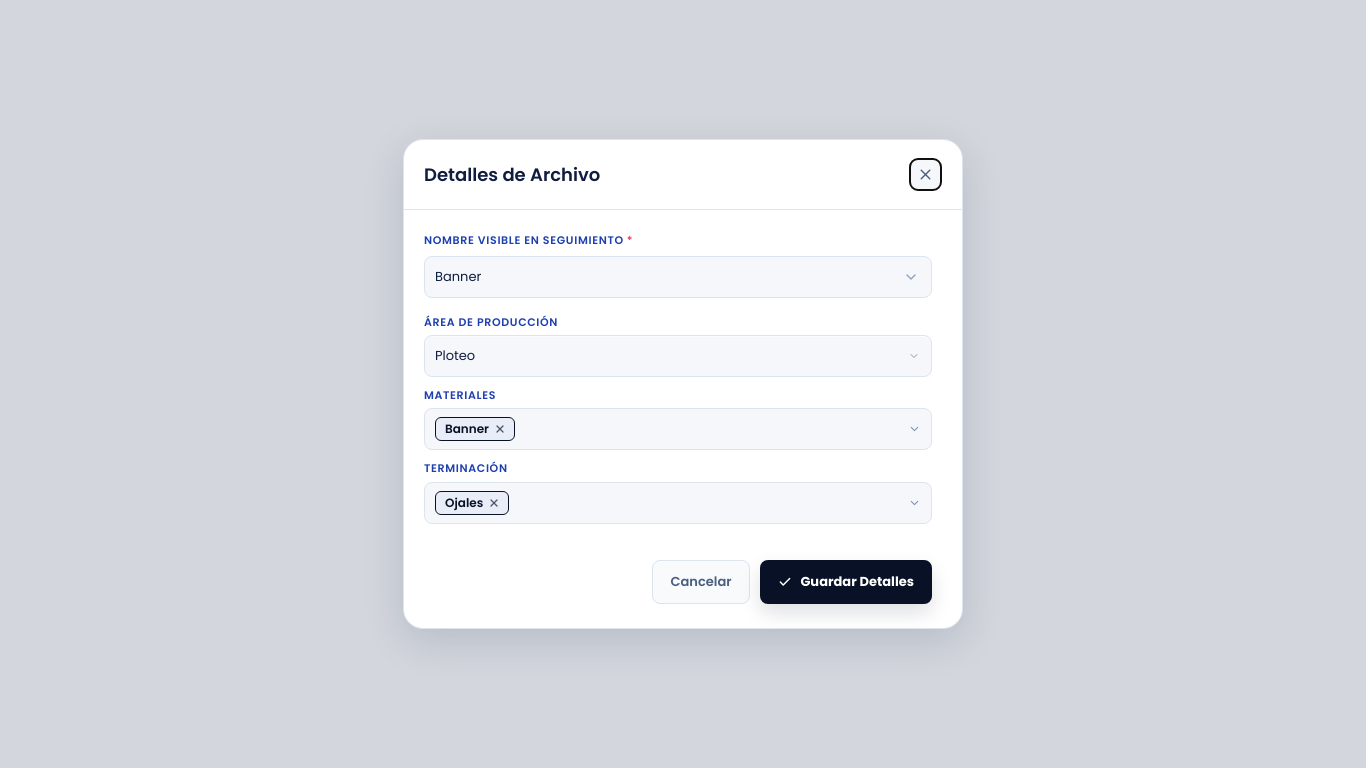
Test: ProductionFileDetailsModal › actualiza el catálogo al cambiar el área sin mezclar opciones de otra área
Select "DTF" in the dropdown labelled "Área de producción": (678, 356) [424, 335, 932, 377]
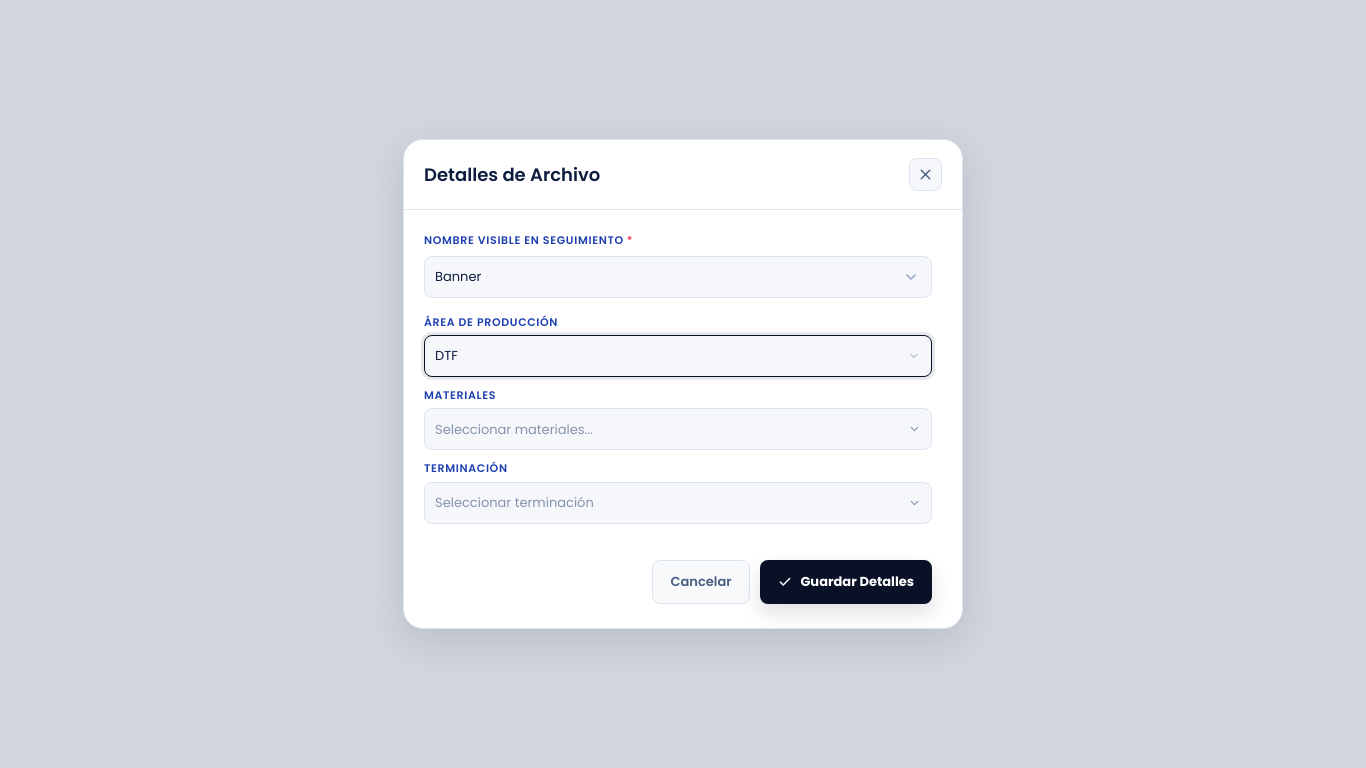
Click the dropdown labelled "materiales": (678, 429) [424, 408, 932, 450]
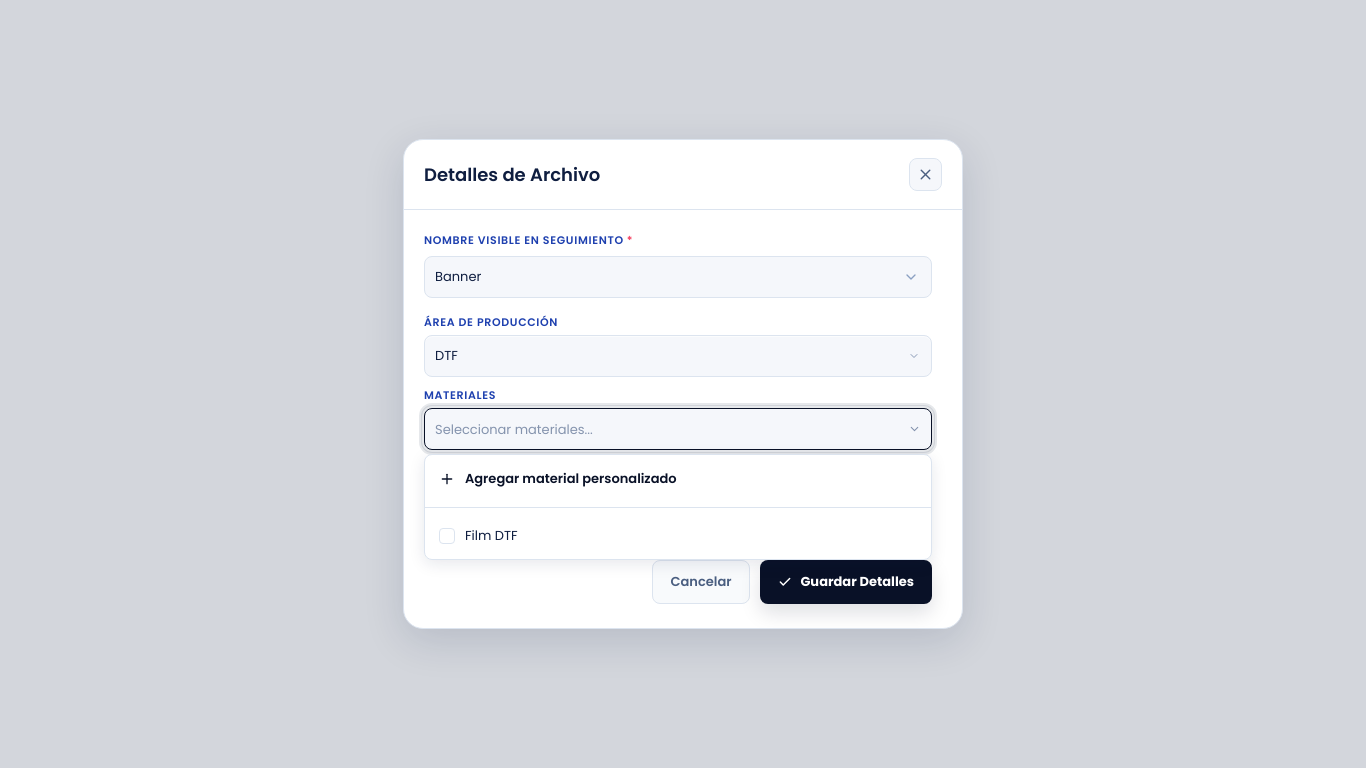
Expected: the dropdown labelled "materiales" shows "Seleccionar materiales", [424, 408, 932, 450]
Expected: the button "Seleccionar terminación" is shown, [424, 482, 932, 524]
Expected: the option "Film DTF" is shown, [425, 512, 931, 559]
